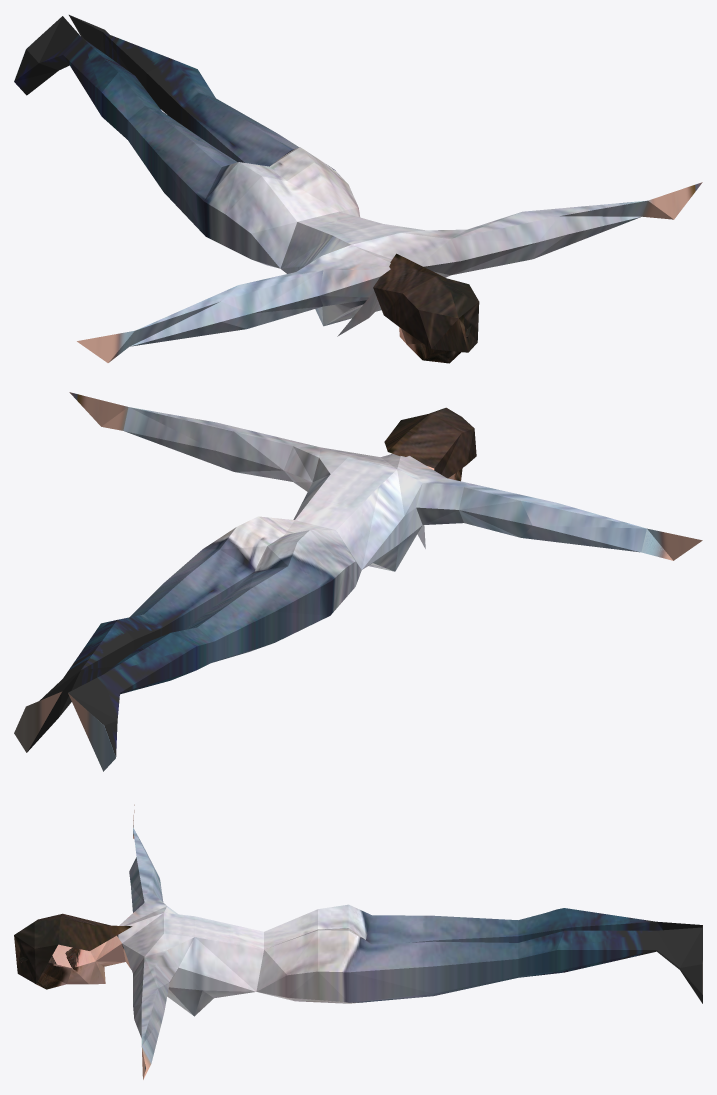
The model's file is chicklow_wtf.obj.
3 renders of one model, top to bottom at view 1: azimuth 30°, elevation 25°; view 2: azimuth 150°, elevation 25°; view 3: azimuth 270°, elevation 25°, orthographic. The views are drawn at different scales.
Visible parts, largest first — view 1: group3, group4, group2, group1; view 2: group3, group4, group2; view 3: group3, group4, group2, group1.
Boxes of the visible parts, <box> form: group3: <box>14,15,702,362</box>; group4: <box>129,147,647,346</box>; group2: <box>373,253,479,352</box>; group1: <box>399,325,471,363</box>; group3: <box>14,392,702,771</box>; group4: <box>129,407,646,580</box>; group2: <box>384,407,476,478</box>; group3: <box>122,804,702,1079</box>; group4: <box>117,827,371,1046</box>; group2: <box>14,913,132,983</box>; group1: <box>20,935,125,989</box>.
Bounding box in the file's own units: 608 × 87.88 × 660.
